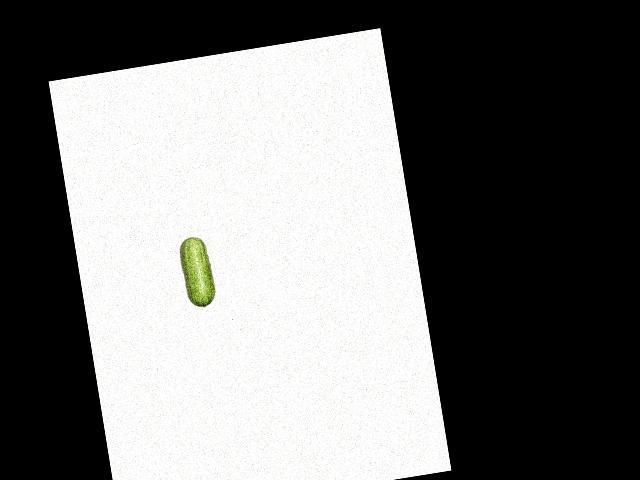cucumber: (177, 235, 217, 310)
